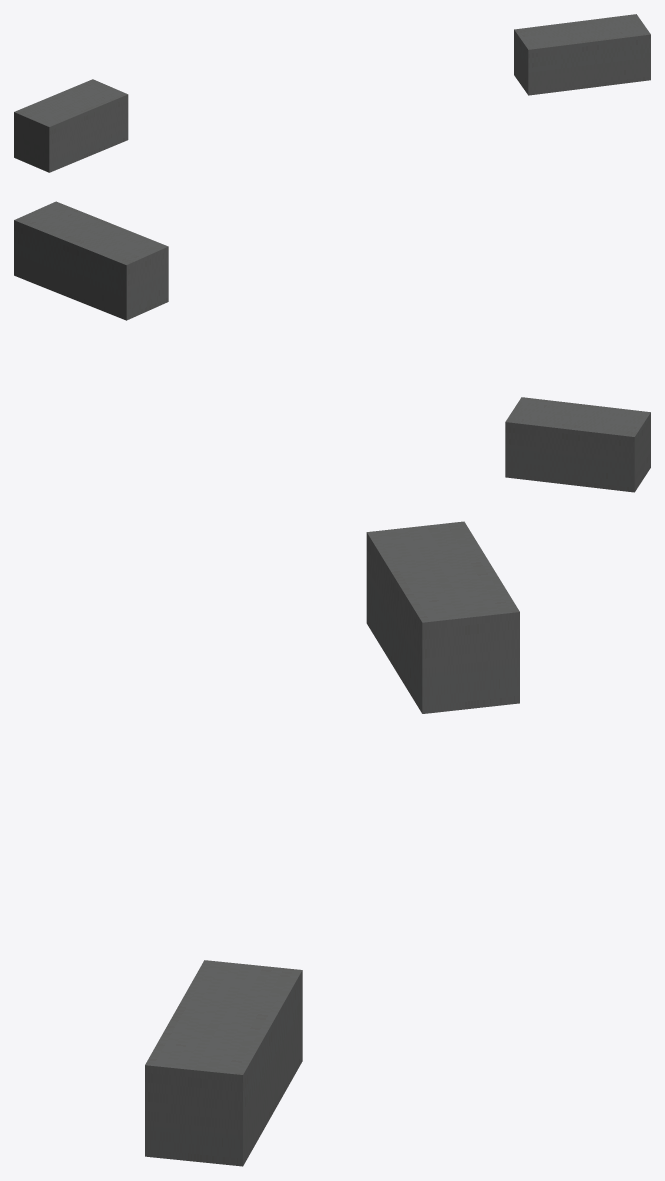
File: prop_chalk-0.glb
The picture shows the model from 3 angles, top to bottom: view 1: azimuth 30°, elevation 25°; view 2: azimuth 150°, elevation 25°; view 3: azimuth 270°, elevation 25°; orthographic projection. The views are drawn at different scales.
Visible parts, largest first — view 1: prop_chalk-0; view 2: prop_chalk-0; view 3: prop_chalk-0.
Boxes of the visible parts, left/top/right/bottom form: prop_chalk-0: left=14, top=14, right=650, bottom=172; prop_chalk-0: left=14, top=201, right=650, bottom=492; prop_chalk-0: left=145, top=521, right=519, bottom=1166.
Size of the model in its own units: 0.1558 by 0.012 by 0.0446.
Materials: 1 (1 with a texture image).
